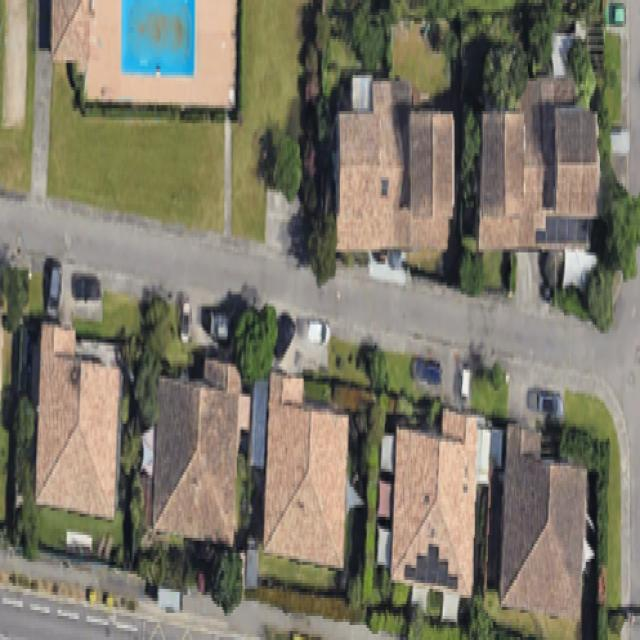maison: (478, 81, 598, 249), (337, 81, 453, 249), (500, 429, 587, 621), (152, 358, 241, 543), (264, 375, 349, 568), (36, 325, 120, 519), (391, 410, 477, 597)
